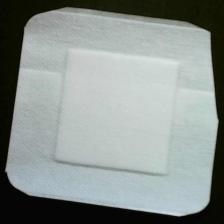Cut: (6, 6, 222, 218)
